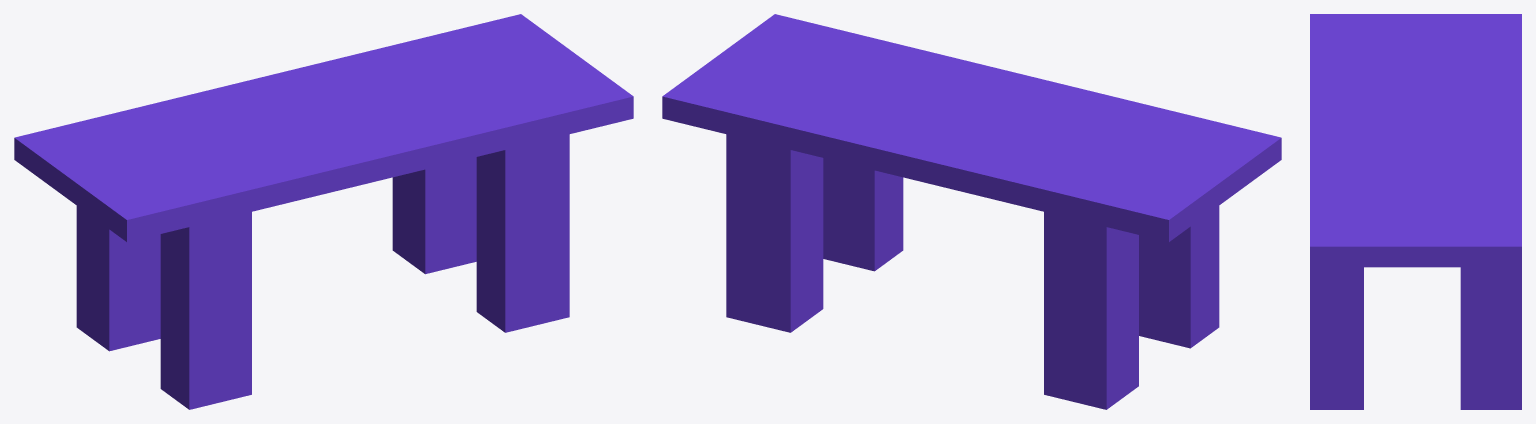
File: стол.glb
3 renders of one model, left to right at view 1: azimuth 30°, elevation 25°; view 2: azimuth 150°, elevation 25°; view 3: azimuth 270°, elevation 25°, orthographic. The views are drawn at different scales.
Visible parts, largest first — view 1: Cube; view 2: Cube; view 3: Cube.
Boxes of the visible parts, bbox=[...] form: Cube: bbox=[14, 14, 633, 409]; Cube: bbox=[662, 14, 1281, 409]; Cube: bbox=[1310, 14, 1521, 409].
Bounding box in the file's own units: 3.9 × 1.51 × 1.5.
